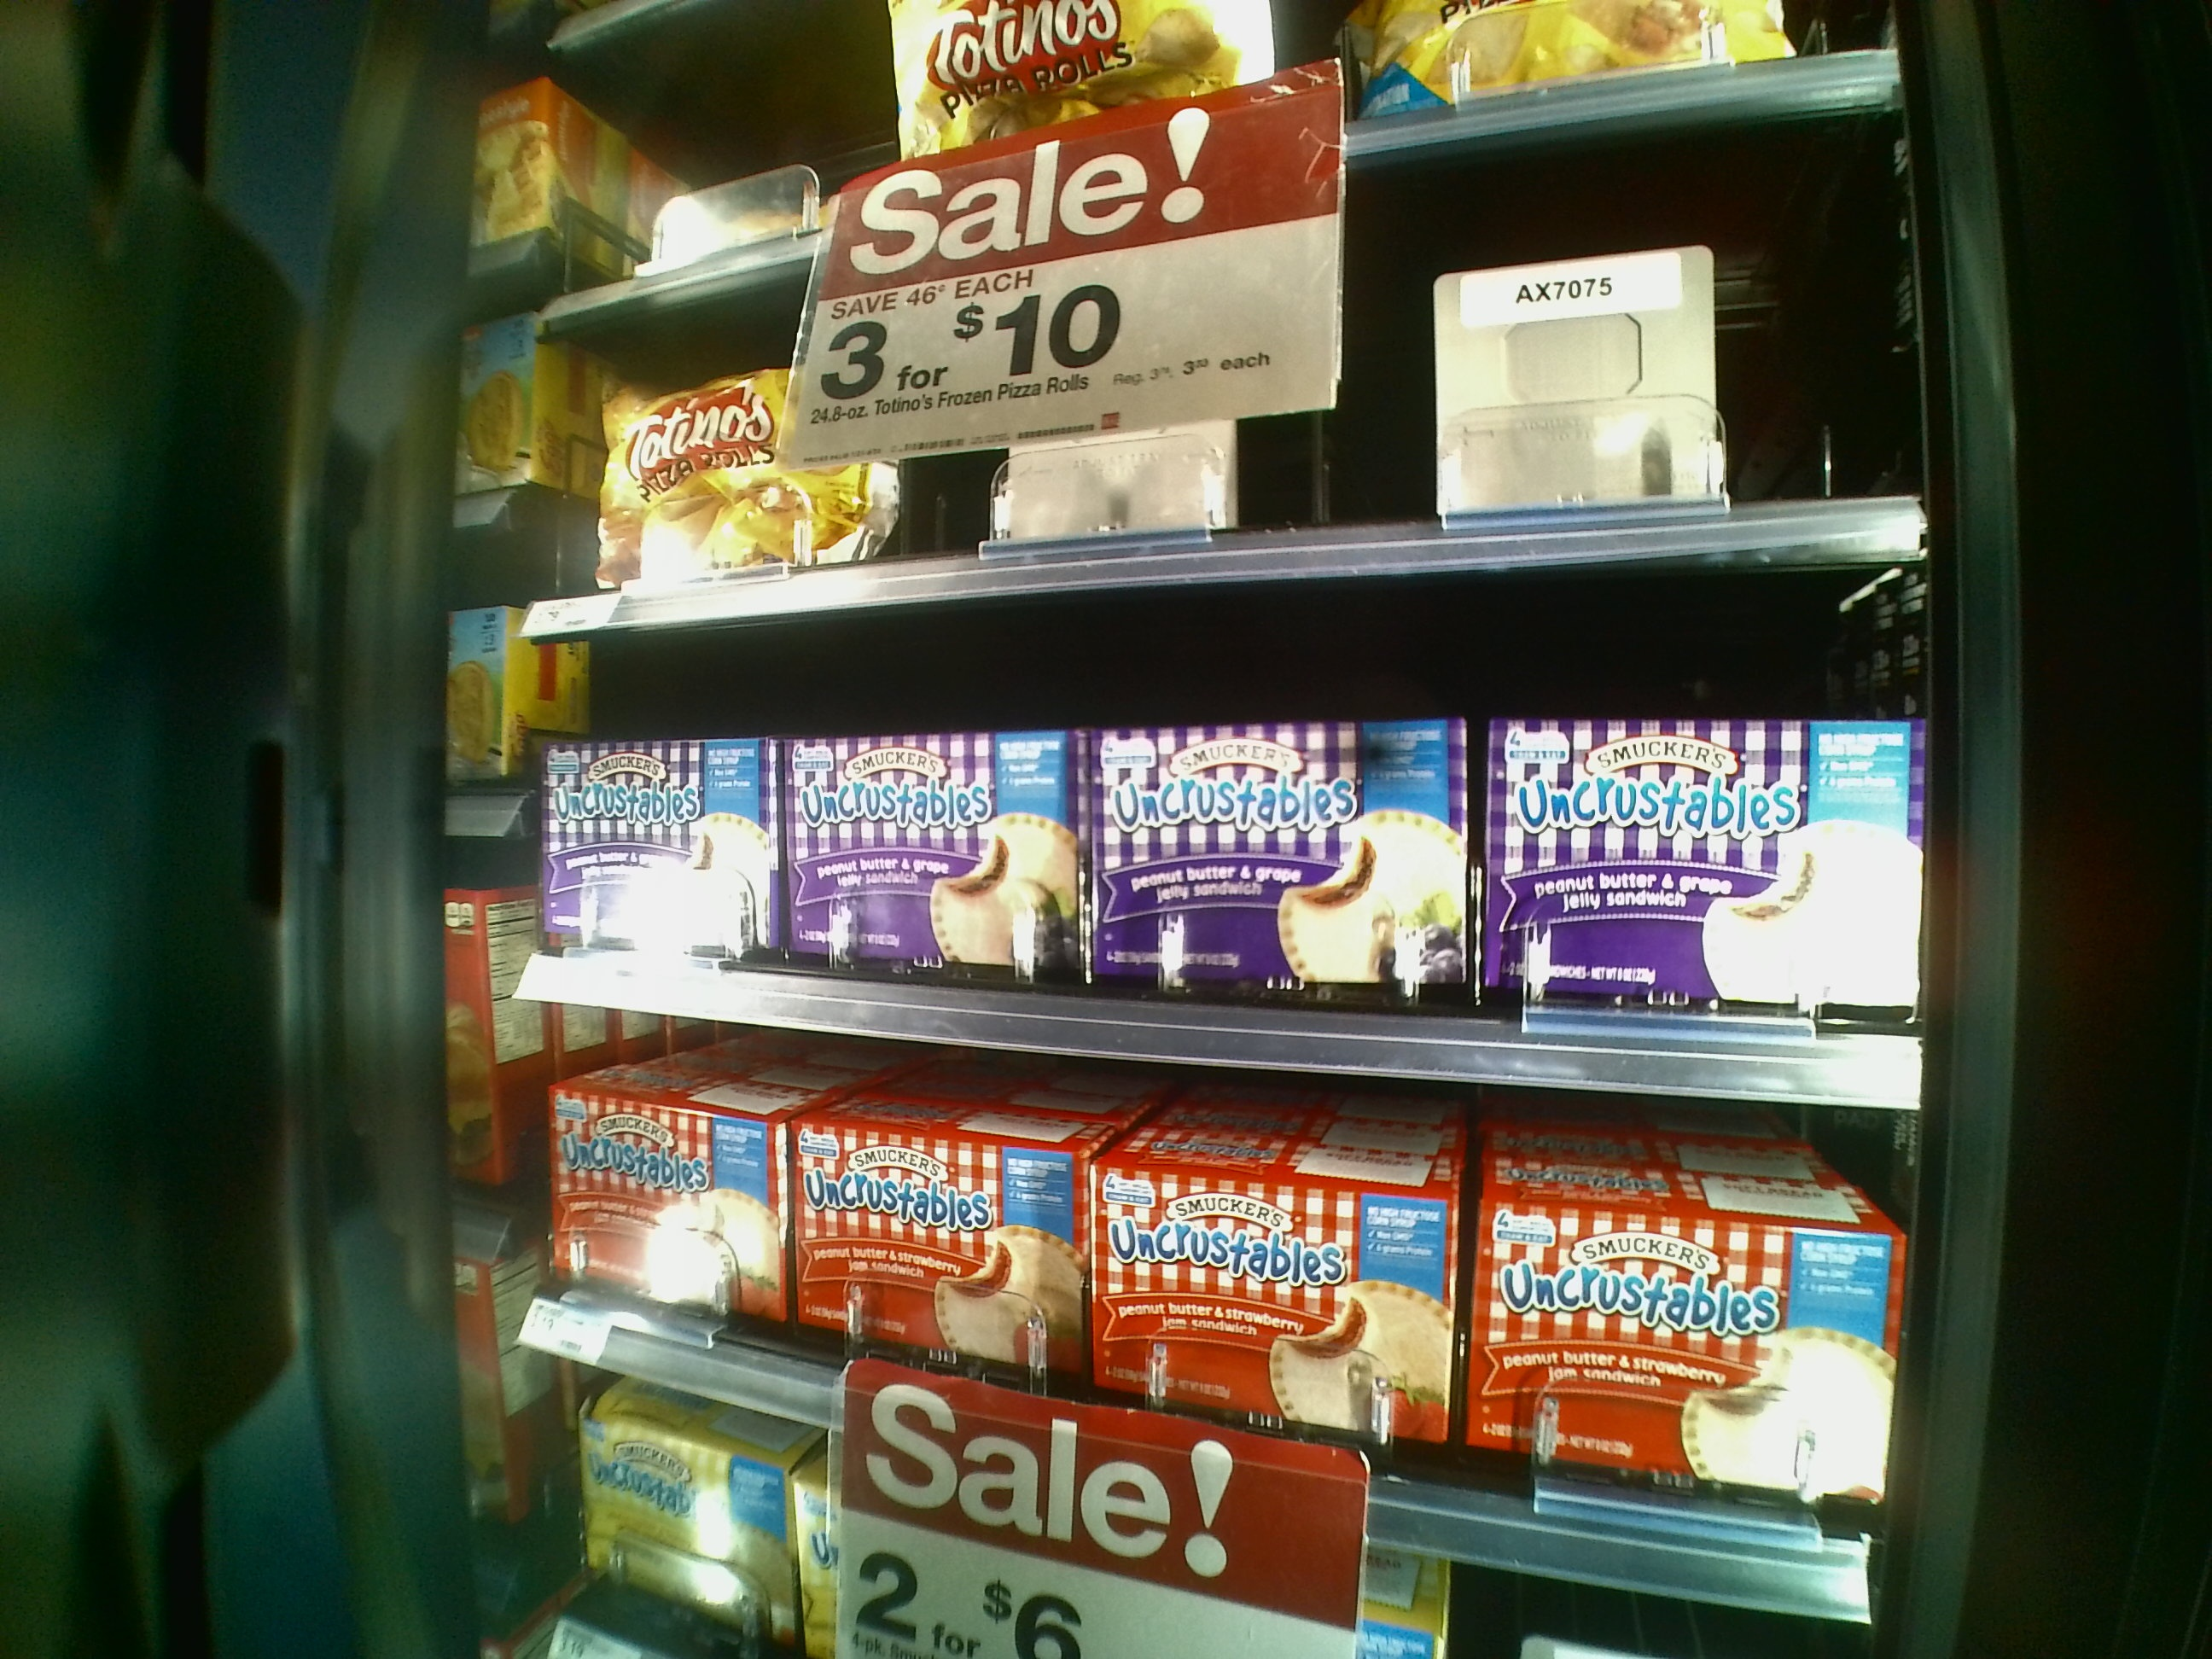shelf: (509, 1004, 1881, 1617), (521, 619, 1933, 1107), (547, 214, 1911, 575)
